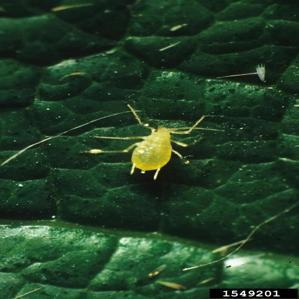Green peach aphid: (72, 91, 229, 196)
